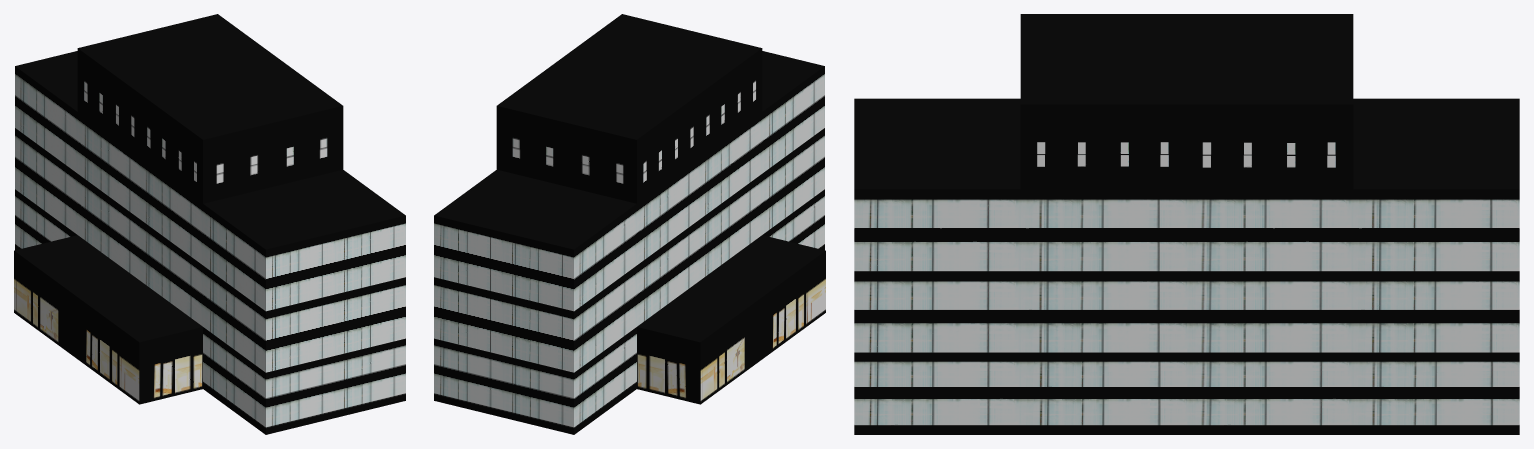
File: building4.FBX
3 renders of one model, left to right at view 1: azimuth 30°, elevation 25°; view 2: azimuth 150°, elevation 25°; view 3: azimuth 270°, elevation 25°, orthographic. The views are drawn at different scales.
Visible parts, largest first — view 1: Box001; view 2: Box001; view 3: Box001.
Boxes of the visible parts, left/top/right/bottom form: Box001: left=14, top=14, right=405, bottom=434; Box001: left=434, top=14, right=825, bottom=434; Box001: left=854, top=14, right=1519, bottom=434.
Size of the model in its own units: 120 by 140 by 255.
